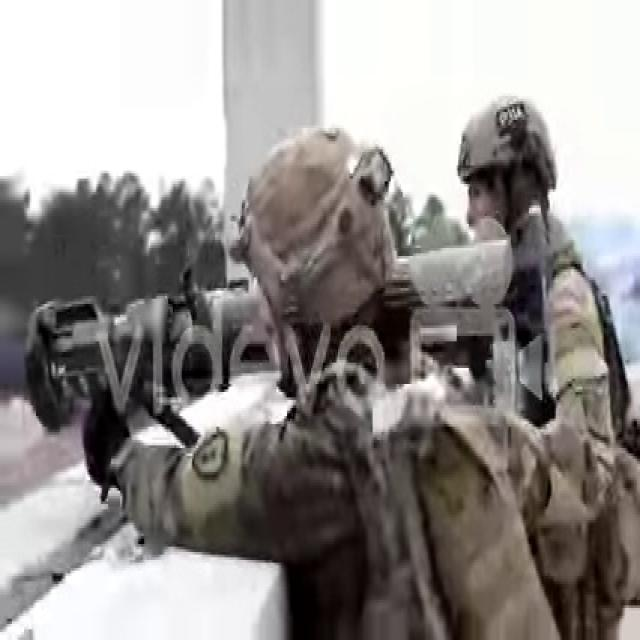bazooka: (20, 209, 552, 458)
